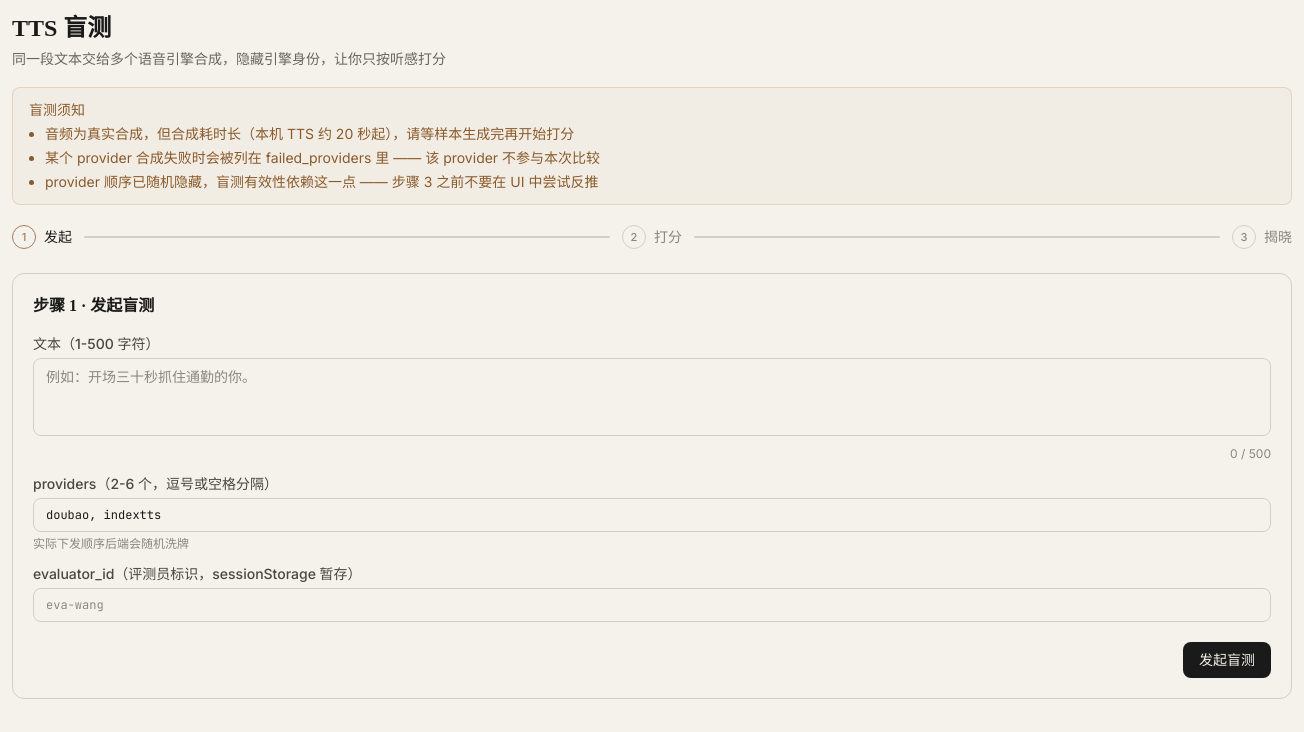
Scenario: TtsBlindTest › 合法发起 → 调 createBlindTest + 跳步骤 2
Type "test text" into the text box with placeholder "例如：开场三十秒抓住通勤的你。".
click(652, 397); type("test text")  # box [33,358,1271,436]
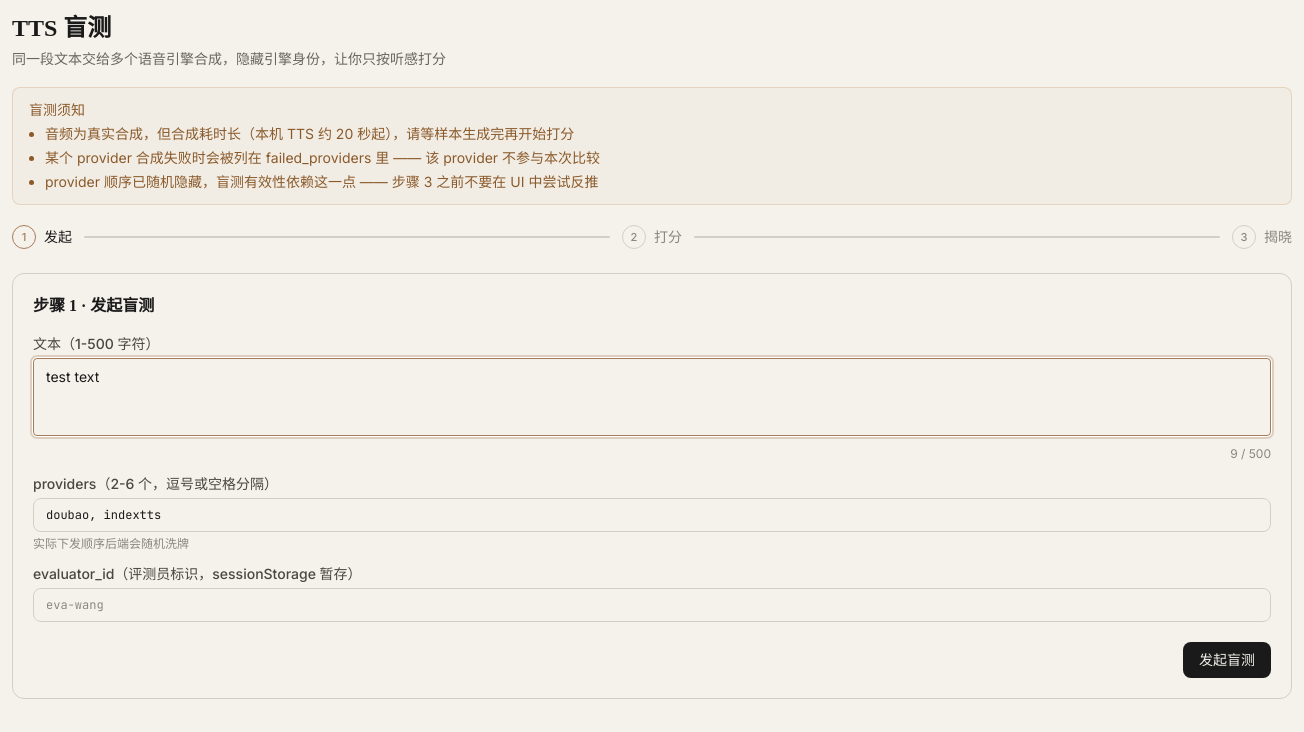
Type "eva-1" into the field with placeholder "eva-wang".
click(652, 605); type("eva-1")  # box [33,588,1271,622]
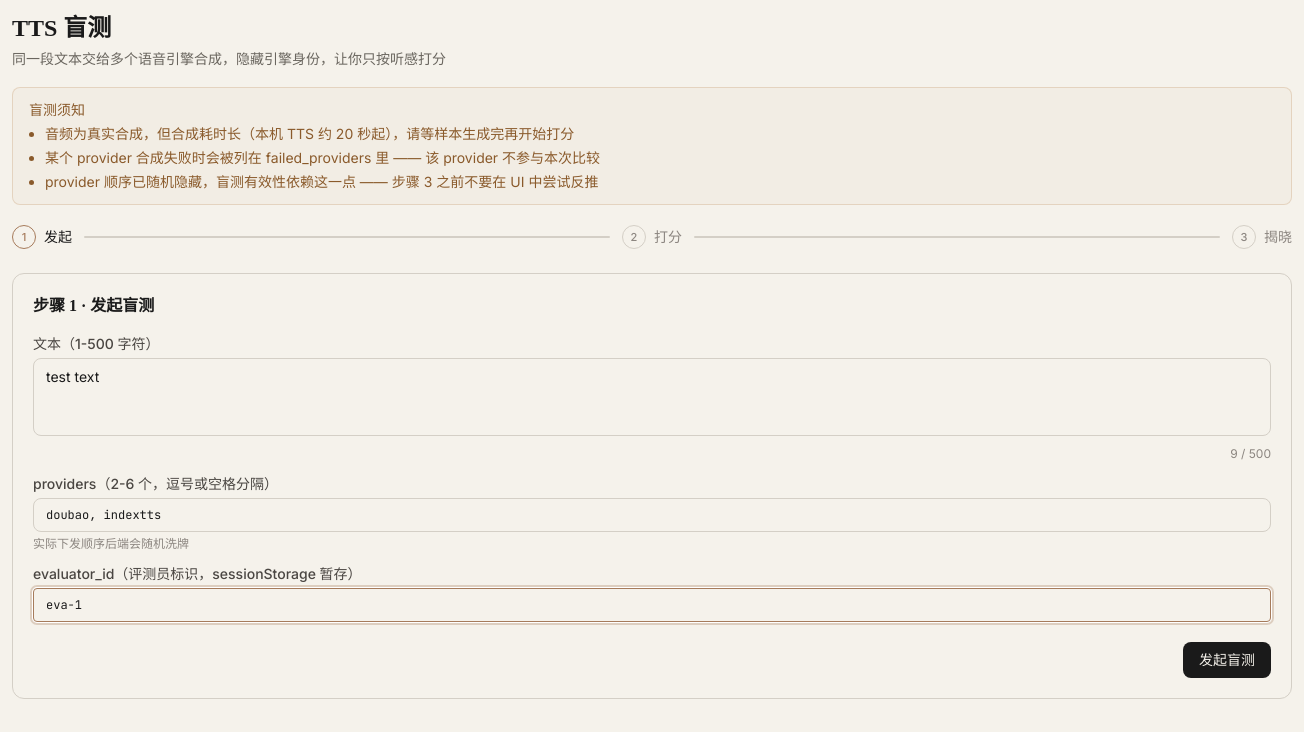
Click the button "发起盲测".
click(1227, 660)  # box [1183,642,1271,678]
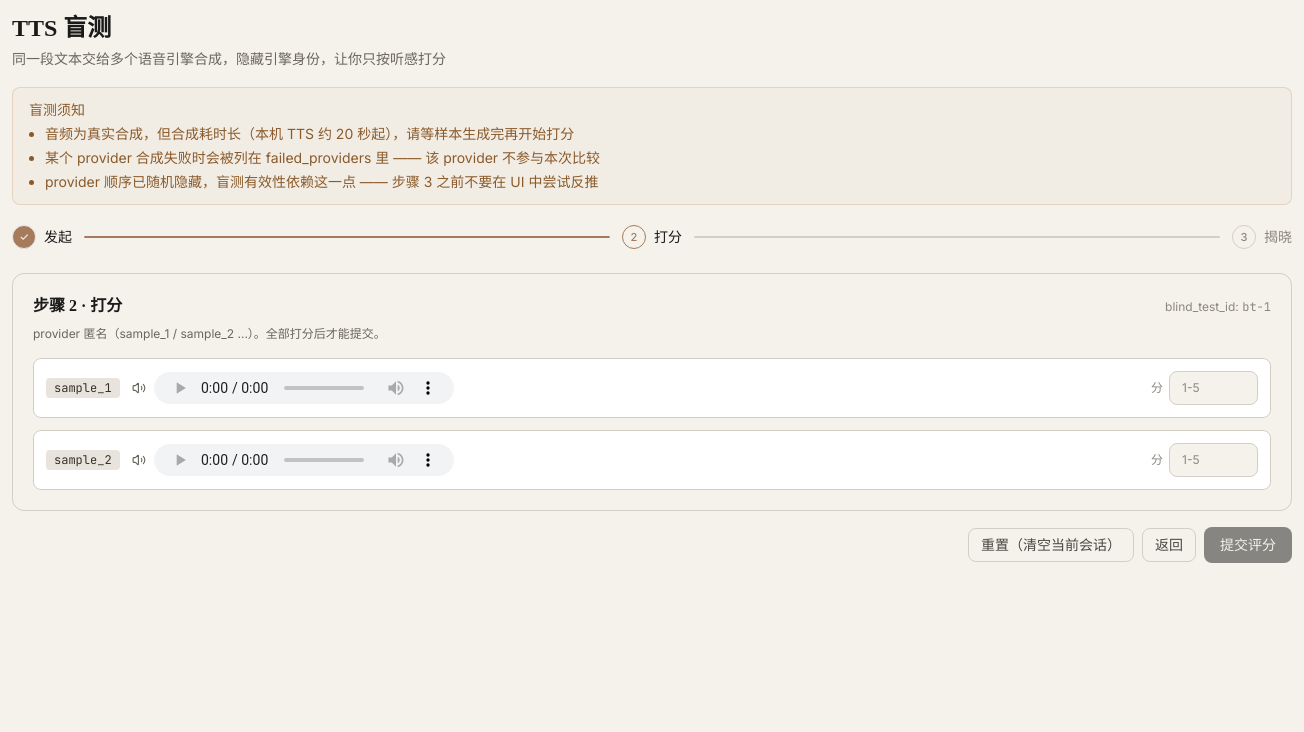
Check: the heading "步骤 2 · 打分" is shown, box [33,294,122,318]
Check: the text "sample_1" is shown, box [46,378,120,398]
Check: the text "sample_2" is shown, box [46,450,120,470]
